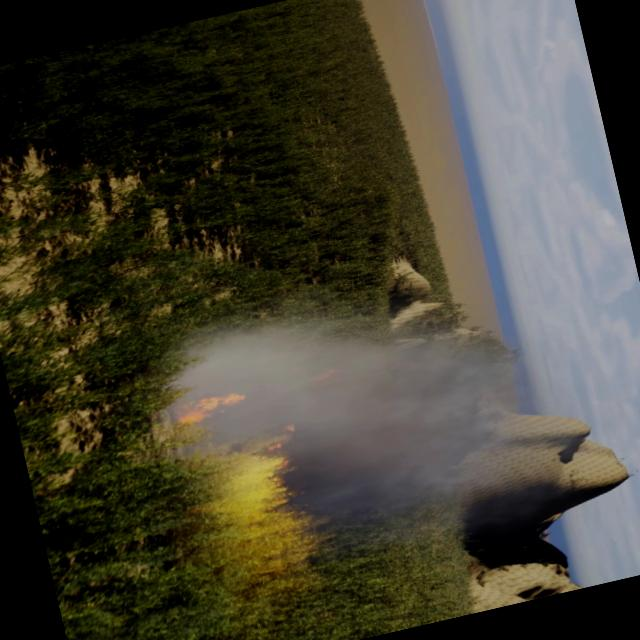fire: (204, 414, 342, 598), (163, 383, 260, 437)
smoke: (131, 261, 563, 588)
